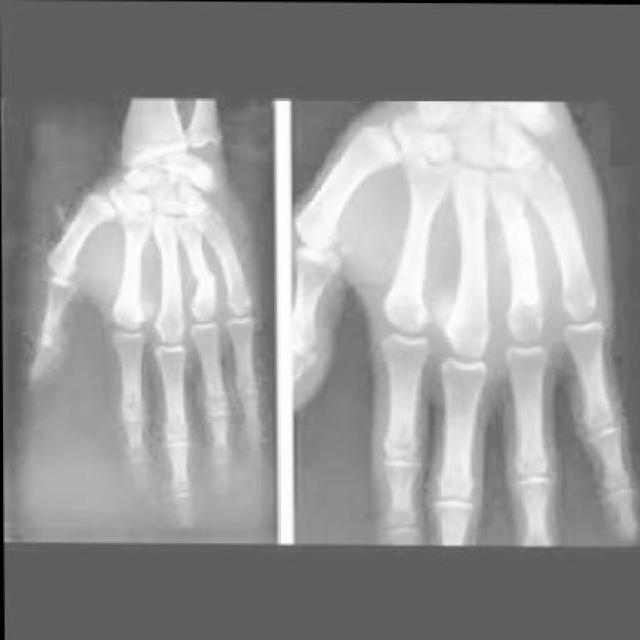Fracture: (188, 271, 218, 296)
